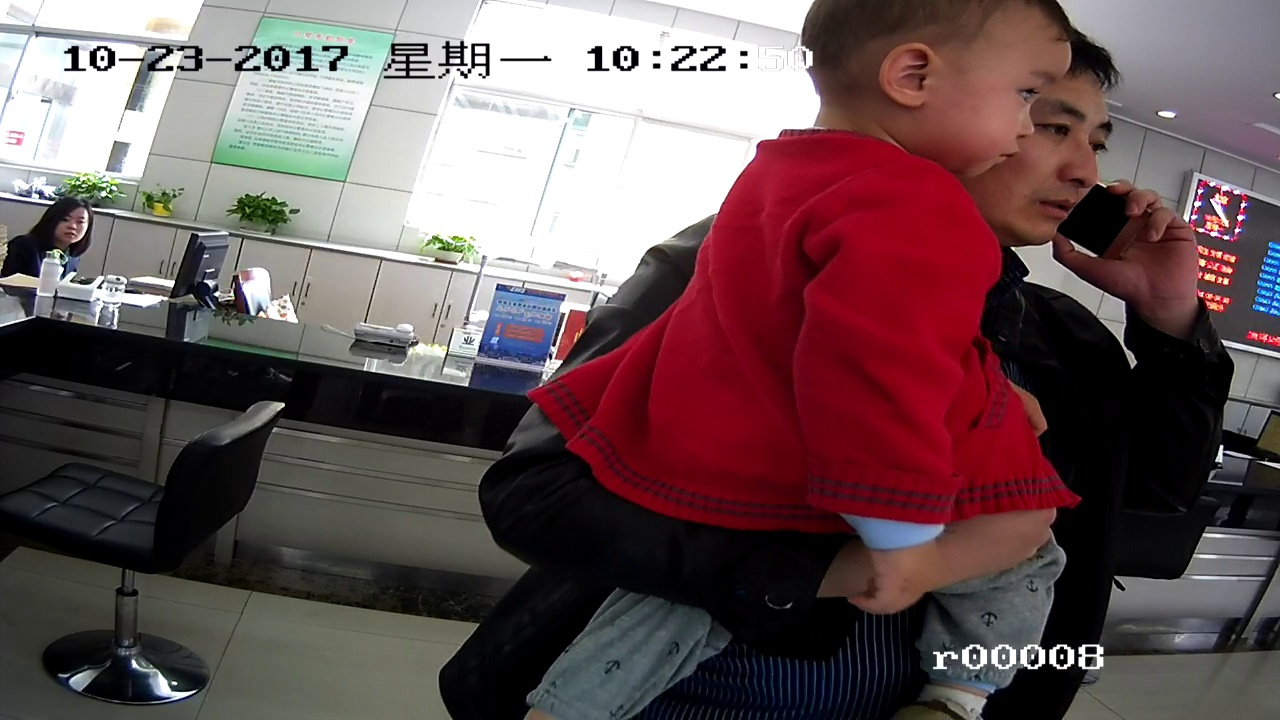billboard: (241, 19, 383, 199)
chair: (30, 415, 281, 684)
person: (905, 35, 1215, 619), (802, 5, 1061, 149), (31, 202, 93, 251)
pot: (428, 226, 480, 265), (237, 199, 289, 234), (142, 191, 181, 225)
